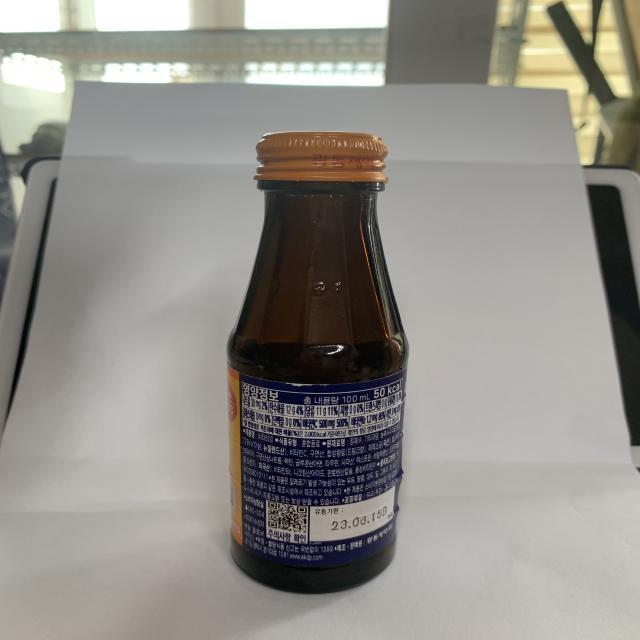Glass: (224, 128, 410, 597)
